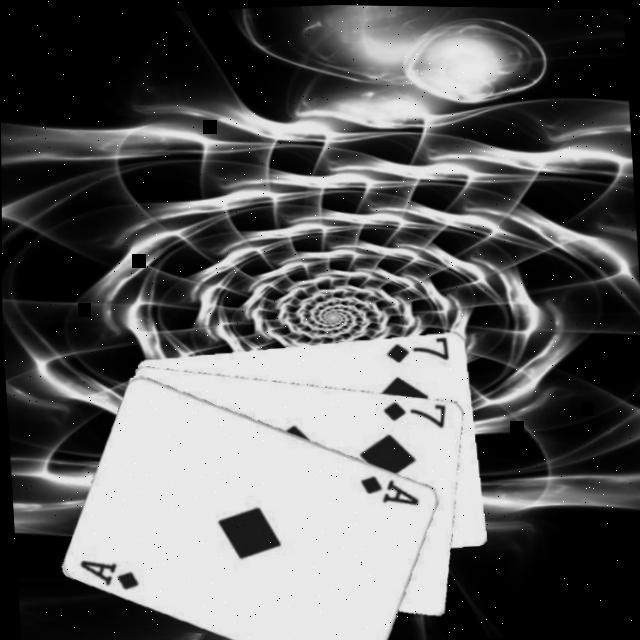7D: (380, 392, 450, 431), (384, 332, 454, 363)
AD: (358, 466, 424, 508), (78, 552, 144, 594)
